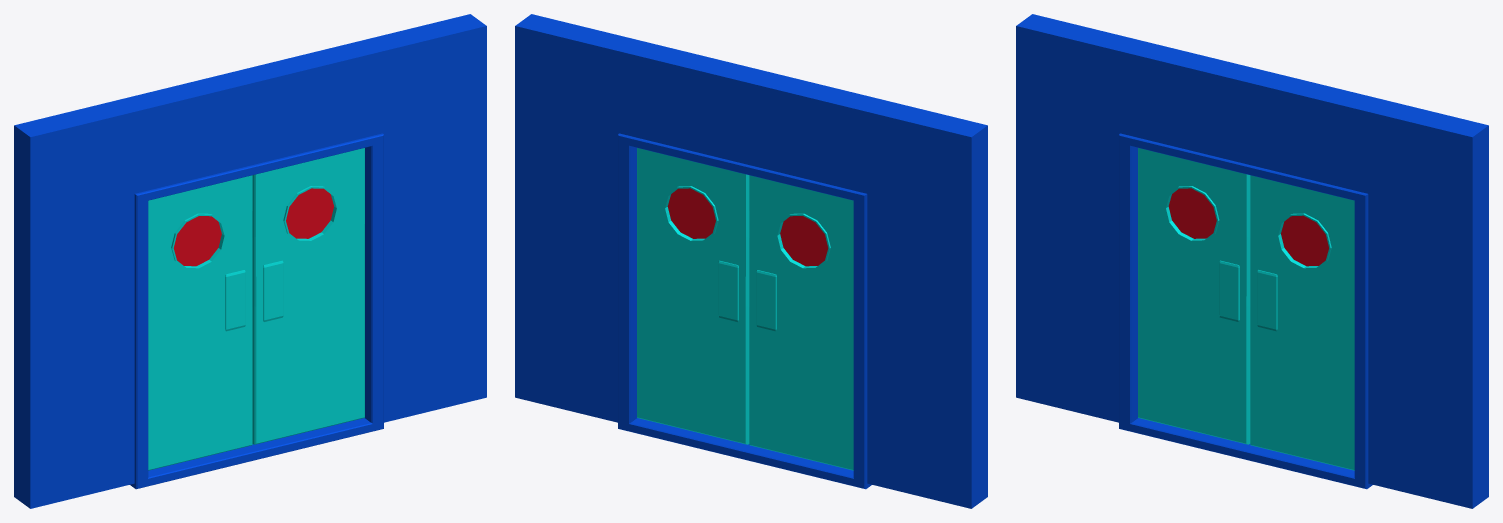
Rendered from DoorWayMorgue.fbx.
3 views of the same model, side by side, from view 1: azimuth 30°, elevation 25°; view 2: azimuth 150°, elevation 25°; view 3: azimuth 330°, elevation 25° (orthographic).
Parts seen in each view (by area): view 1: DoorwayMorgue, DoorwayMorgue.001, DoorwayMorgue.002; view 2: DoorwayMorgue, DoorwayMorgue.001, DoorwayMorgue.002; view 3: DoorwayMorgue, DoorwayMorgue.002, DoorwayMorgue.001.
Boxes of the visible parts, <box> form: DoorwayMorgue: <box>14,14,486,508</box>; DoorwayMorgue.001: <box>252,148,364,444</box>; DoorwayMorgue.002: <box>148,175,252,470</box>; DoorwayMorgue: <box>515,14,987,508</box>; DoorwayMorgue.001: <box>637,148,749,444</box>; DoorwayMorgue.002: <box>749,175,853,470</box>; DoorwayMorgue: <box>1016,14,1488,508</box>; DoorwayMorgue.002: <box>1138,148,1250,444</box>; DoorwayMorgue.001: <box>1250,175,1354,470</box>.
Bounding box in the file's own units: 276 × 350 × 26.54.
